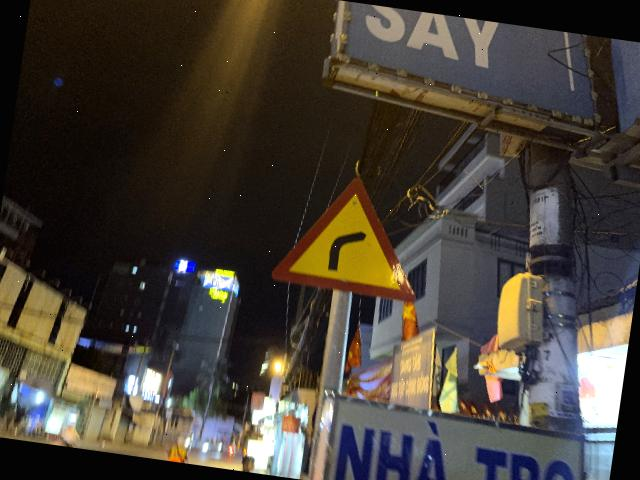cho-ngoat-nguy-hiem-ben-phai: (272, 164, 434, 303)
